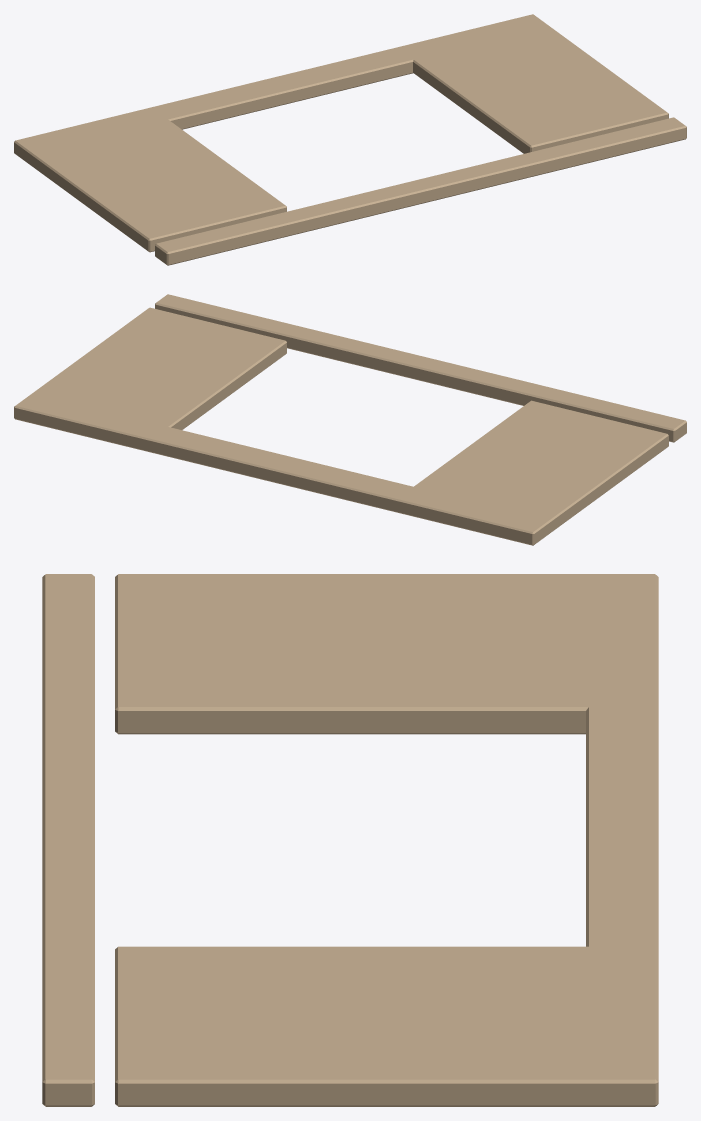
File: fitted-kitchen-and-bathroom-builder-worktop-hob-cutout-dec1aceb__17844.glb
3 views of the same model, one above another, from view 1: azimuth 30°, elevation 25°; view 2: azimuth 150°, elevation 25°; view 3: azimuth 270°, elevation 25° (orthographic). The views are drawn at different scales.
Visible parts, largest first — view 1: worktop-hob-cutout; view 2: worktop-hob-cutout; view 3: worktop-hob-cutout.
Part boxes in pixels (left/top/right/bottom): worktop-hob-cutout: left=14, top=14, right=686, bottom=265; worktop-hob-cutout: left=14, top=294, right=686, bottom=545; worktop-hob-cutout: left=42, top=574, right=658, bottom=1106.
Bounding box in the file's own units: 1.2 × 0.03 × 0.615.
